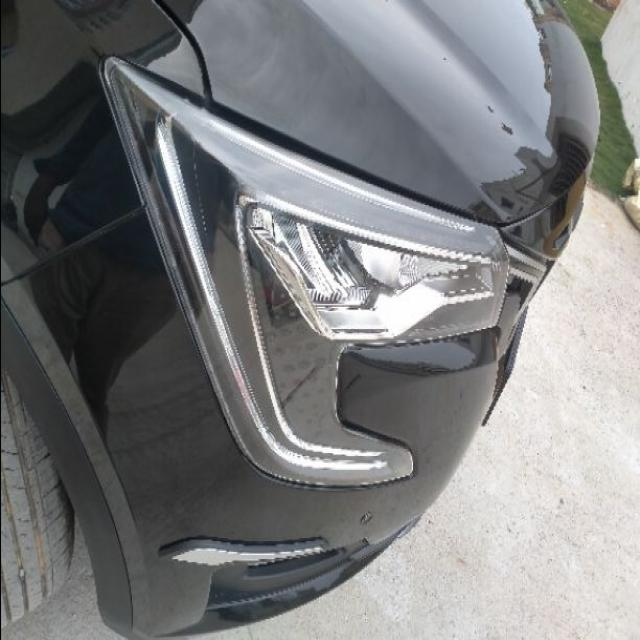license_plate: (1, 0, 599, 639)
